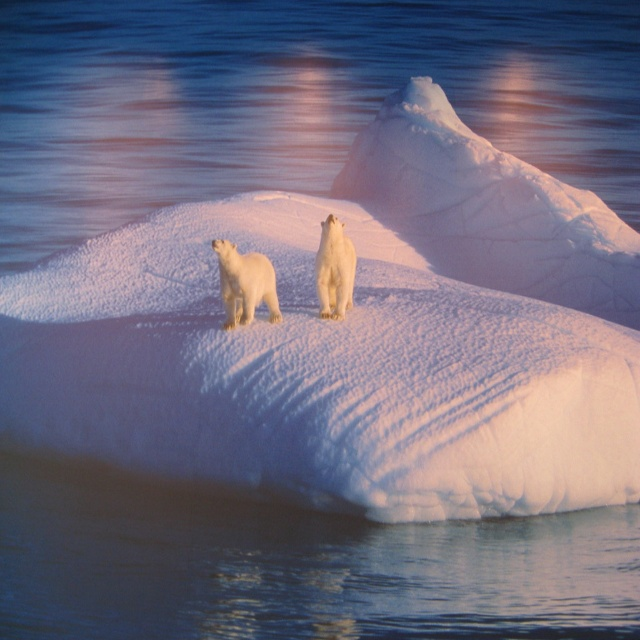Polar bear: (209, 239, 282, 332), (316, 215, 358, 325)
